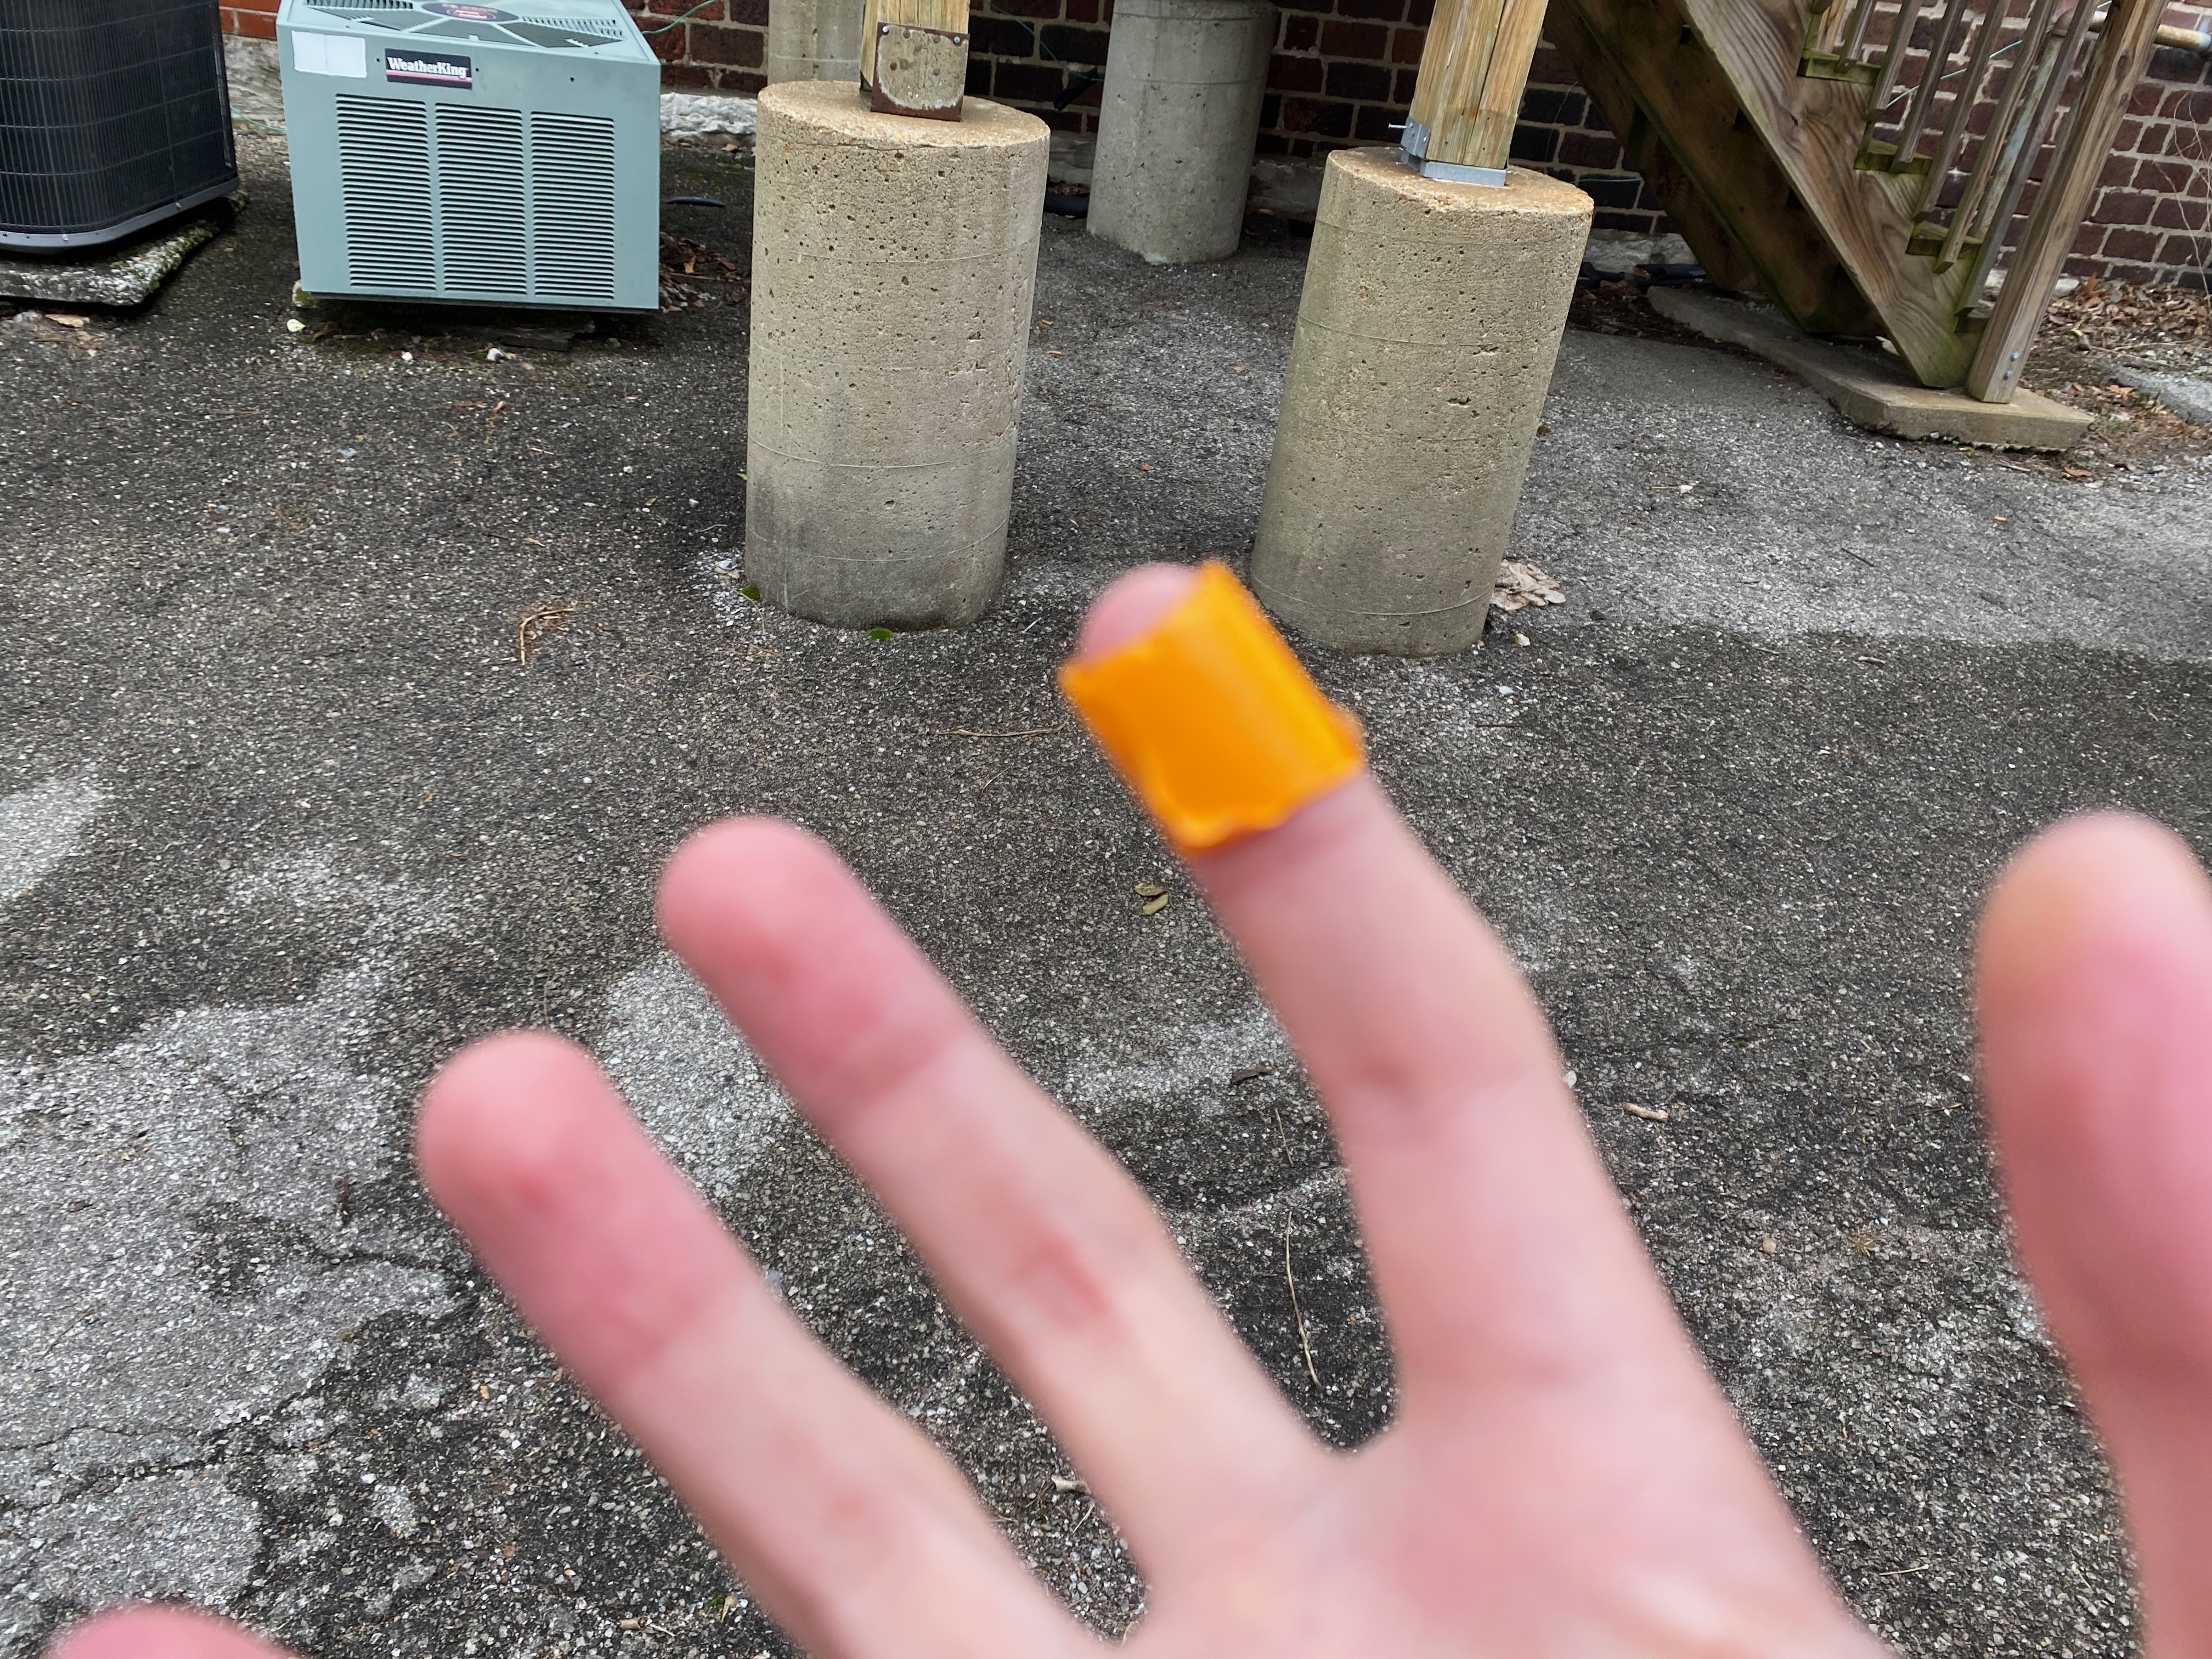fingertip: (1047, 540, 1386, 880)
